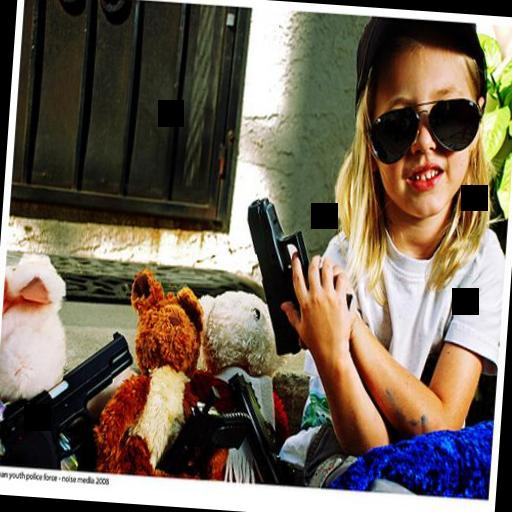Handgun: (235, 194, 359, 360)
